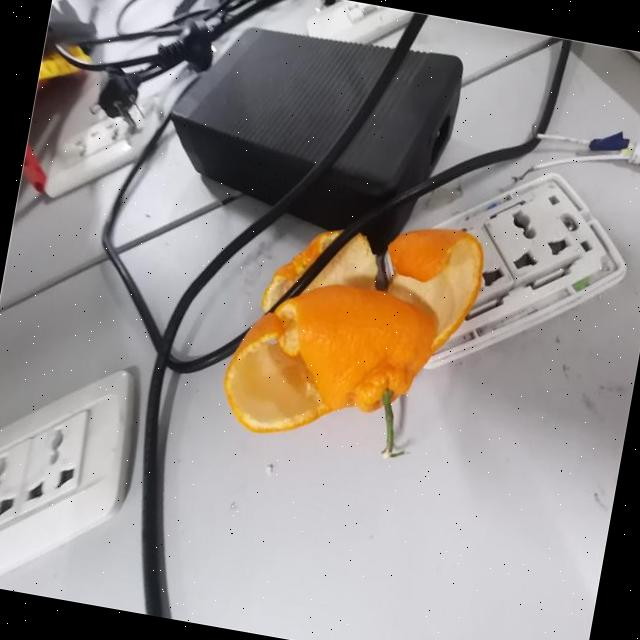orange-peel: (214, 192, 491, 467)
